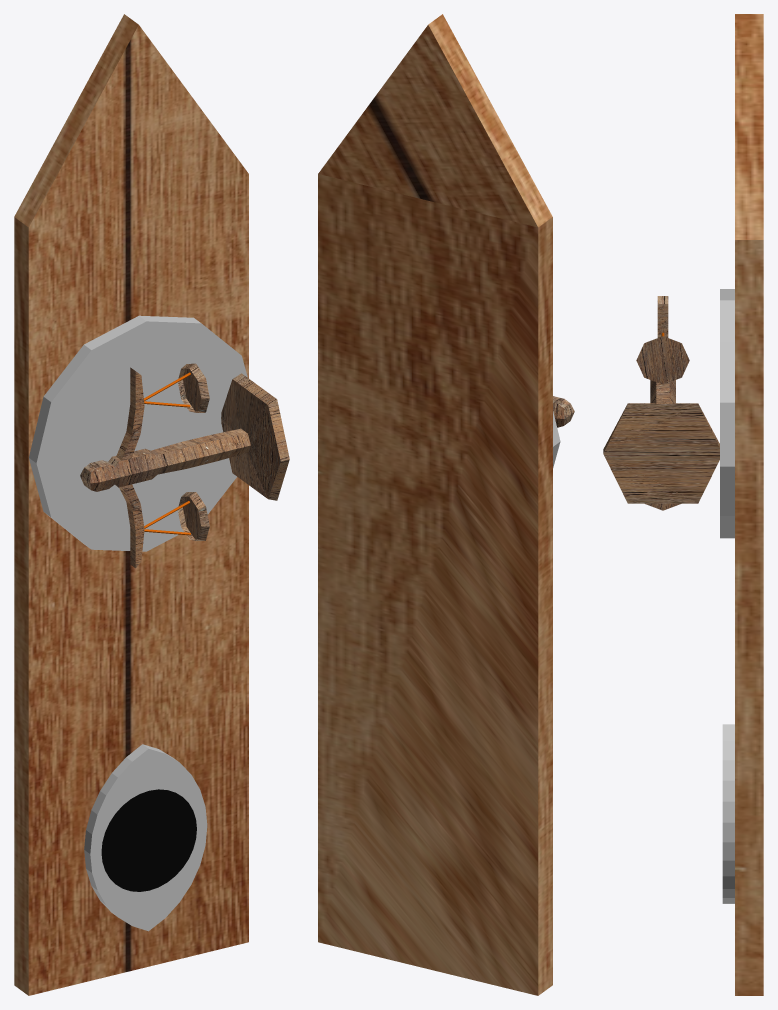
The model's file is TradingTab.fbx.
3 renders of one model, left to right at view 1: azimuth 30°, elevation 25°; view 2: azimuth 150°, elevation 25°; view 3: azimuth 270°, elevation 25°, orthographic.
Parts seen in each view (by area): view 1: TradingTab; view 2: TradingTab; view 3: TradingTab.
Part boxes in pixels (<box>): TradingTab: <box>14,14,289,995</box>; TradingTab: <box>318,14,574,995</box>; TradingTab: <box>603,14,763,995</box>.
Bounding box in the file's own units: 11.58 × 47.46 × 7.43.
